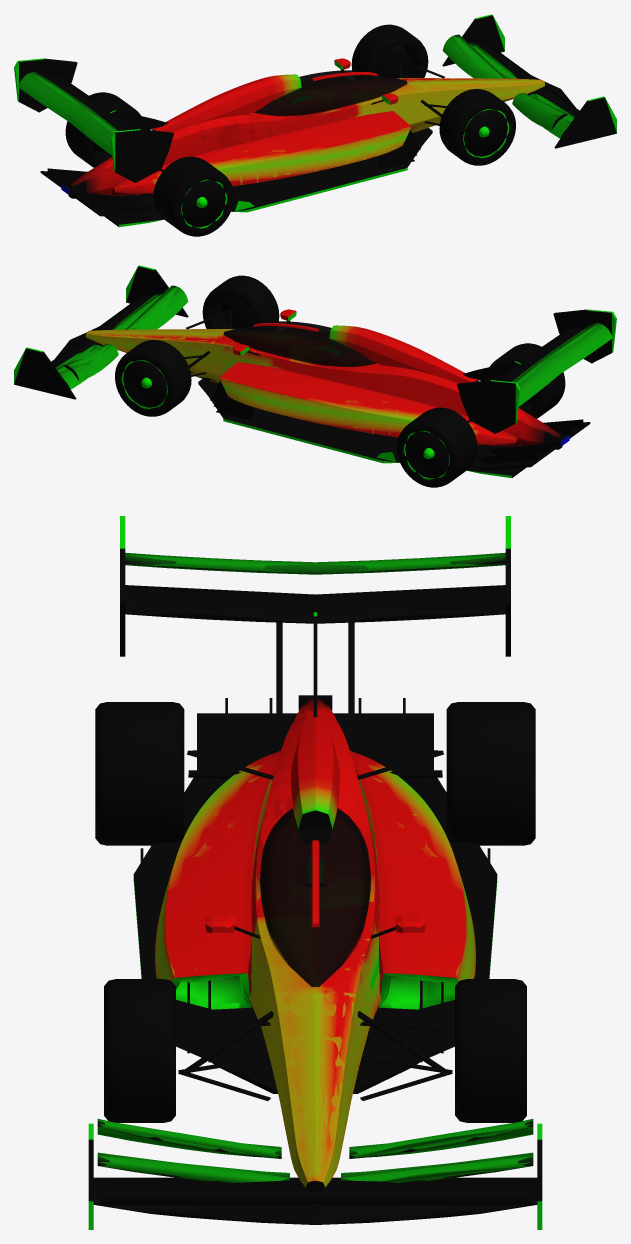
The model's file is arrowhead.glb.
The picture shows the model from 3 angles, top to bottom: view 1: azimuth 30°, elevation 25°; view 2: azimuth 150°, elevation 25°; view 3: azimuth 270°, elevation 25°; orthographic projection. The views are drawn at different scales.
Visible parts, largest first — view 1: body_L0, body_L2, body_L1, glass_L0, glass_L1, wheel_RR_L0, wheel_FL_L0, wheel_FR_L0, wheel_RR_L2, wheel_FR_L2, wheel_RL_L0, wheel_FR_L1 (+4 smaller); view 2: body_L0, body_L2, body_L1, glass_L0, glass_L1, wheel_RL_L0, wheel_FR_L0, wheel_RL_L2, wheel_FL_L0, wheel_FL_L2, wheel_RR_L0, wheel_FL_L1 (+5 smaller); view 3: body_L0, body_L2, body_L1, glass_L0, glass_L1, wheel_RL_L0, wheel_RR_L0, wheel_FR_L0, wheel_FL_L0, wheel_RR_L1, wheel_RL_L1, glass_L2 (+2 smaller).
Boxes of the visible parts, <box> form: body_L0: <box>14,14,616,227</box>; body_L2: <box>20,35,579,198</box>; body_L1: <box>31,35,574,197</box>; glass_L0: <box>253,70,407,116</box>; glass_L1: <box>254,70,406,115</box>; wheel_RR_L0: <box>153,156,234,236</box>; wheel_FL_L0: <box>351,24,428,77</box>; wheel_FR_L0: <box>439,89,515,165</box>; wheel_RR_L2: <box>177,175,232,233</box>; wheel_FR_L2: <box>458,104,514,163</box>; wheel_RL_L0: <box>65,92,140,167</box>; wheel_FR_L1: <box>441,89,514,165</box>; body_L0: <box>14,265,616,478</box>; body_L2: <box>51,286,610,448</box>; body_L1: <box>56,286,600,448</box>; glass_L0: <box>223,321,376,366</box>; glass_L1: <box>224,321,376,366</box>; wheel_RL_L0: <box>396,407,477,487</box>; wheel_FR_L0: <box>202,275,279,328</box>; wheel_RL_L2: <box>398,426,453,484</box>; wheel_FL_L0: <box>115,340,191,416</box>; wheel_FL_L2: <box>116,355,171,414</box>; wheel_RR_L0: <box>490,343,565,418</box>; wheel_FL_L1: <box>116,340,189,416</box>; body_L0: <box>88,516,542,1229</box>; body_L2: <box>93,555,537,1204</box>; body_L1: <box>98,565,532,1223</box>; glass_L0: <box>260,808,370,986</box>; glass_L1: <box>260,809,370,986</box>; wheel_RL_L0: <box>446,702,535,845</box>; wheel_RR_L0: <box>95,702,184,845</box>; wheel_FR_L0: <box>104,979,175,1122</box>; wheel_FL_L0: <box>455,979,526,1122</box>; wheel_RR_L1: <box>95,704,184,845</box>; wheel_RL_L1: <box>446,704,535,845</box>; glass_L2: <box>261,810,369,986</box>.
Bounding box in the file's own units: 5.44 × 1.26 × 2.14.
